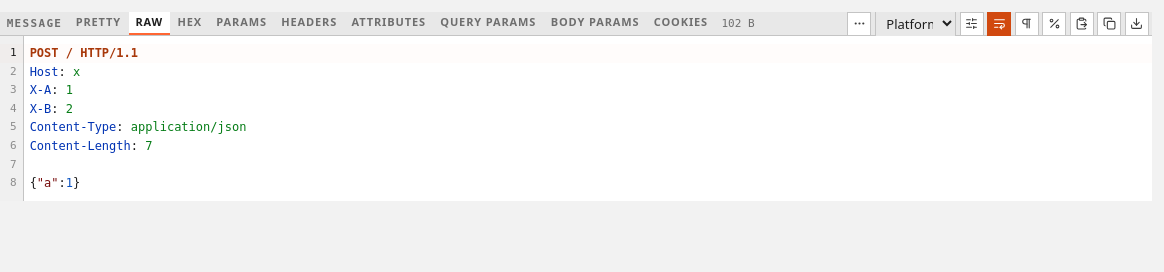
Test: the hide-specified-headers eye › while it is on the pane says why editing stopped; pressing it again restores the headers
Click the tab "Pretty" at (98, 24), box x1=69 y1=12 x2=128 y2=35
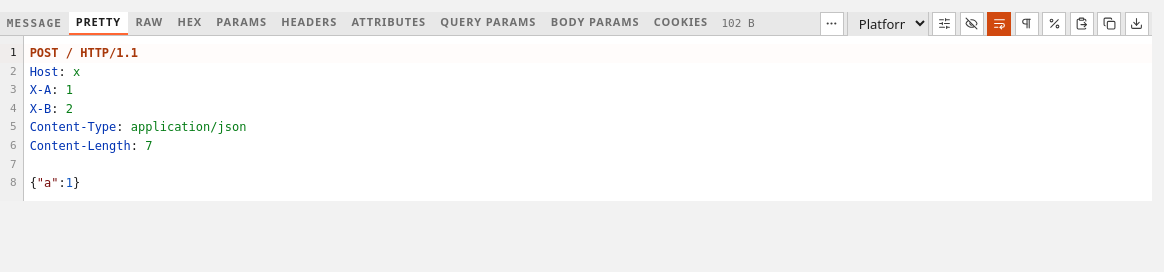
Expected: the button named "specified headers" is shown
Click the button named "specified headers" at (972, 24), box x1=960 y1=12 x2=984 y2=36
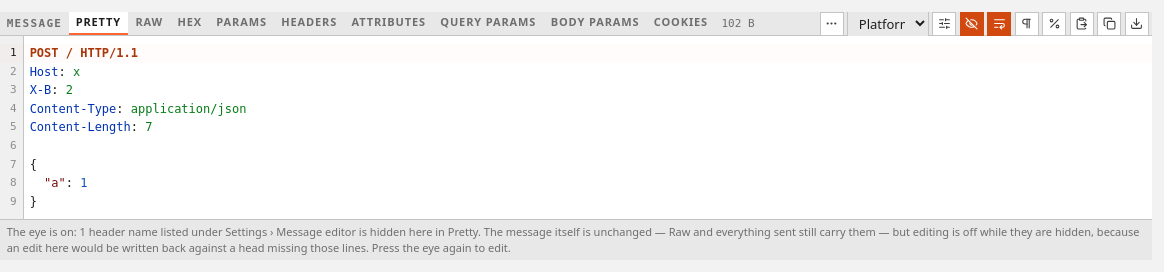
Expected: the text "Press the eye again to edit" is shown, x1=7 y1=224 x2=1140 y2=255
Click the button named "specified headers" at (972, 24), box x1=960 y1=12 x2=984 y2=36
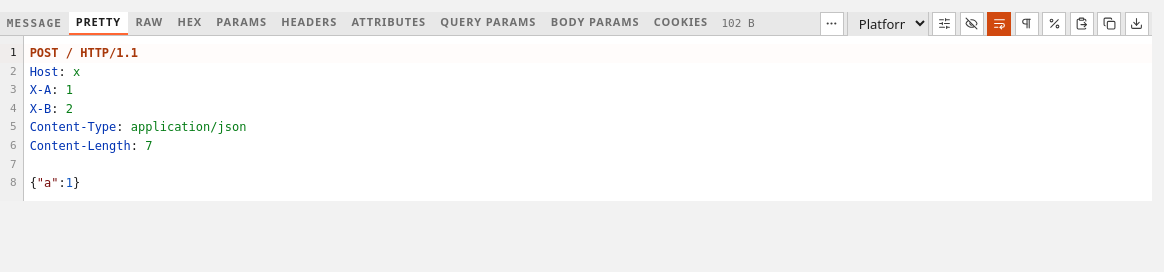
Expected: the text "Press the eye again to edit" is gone
